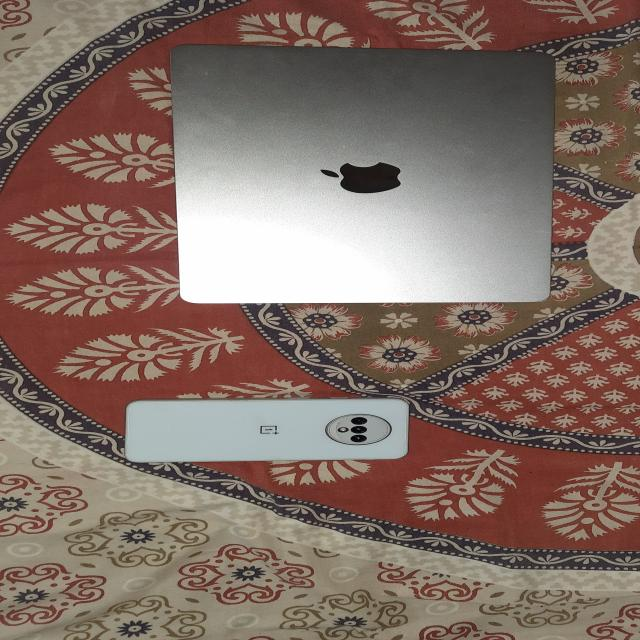Laptop-and-Mobile: (153, 40, 566, 307)
Mobile: (126, 398, 415, 462)
